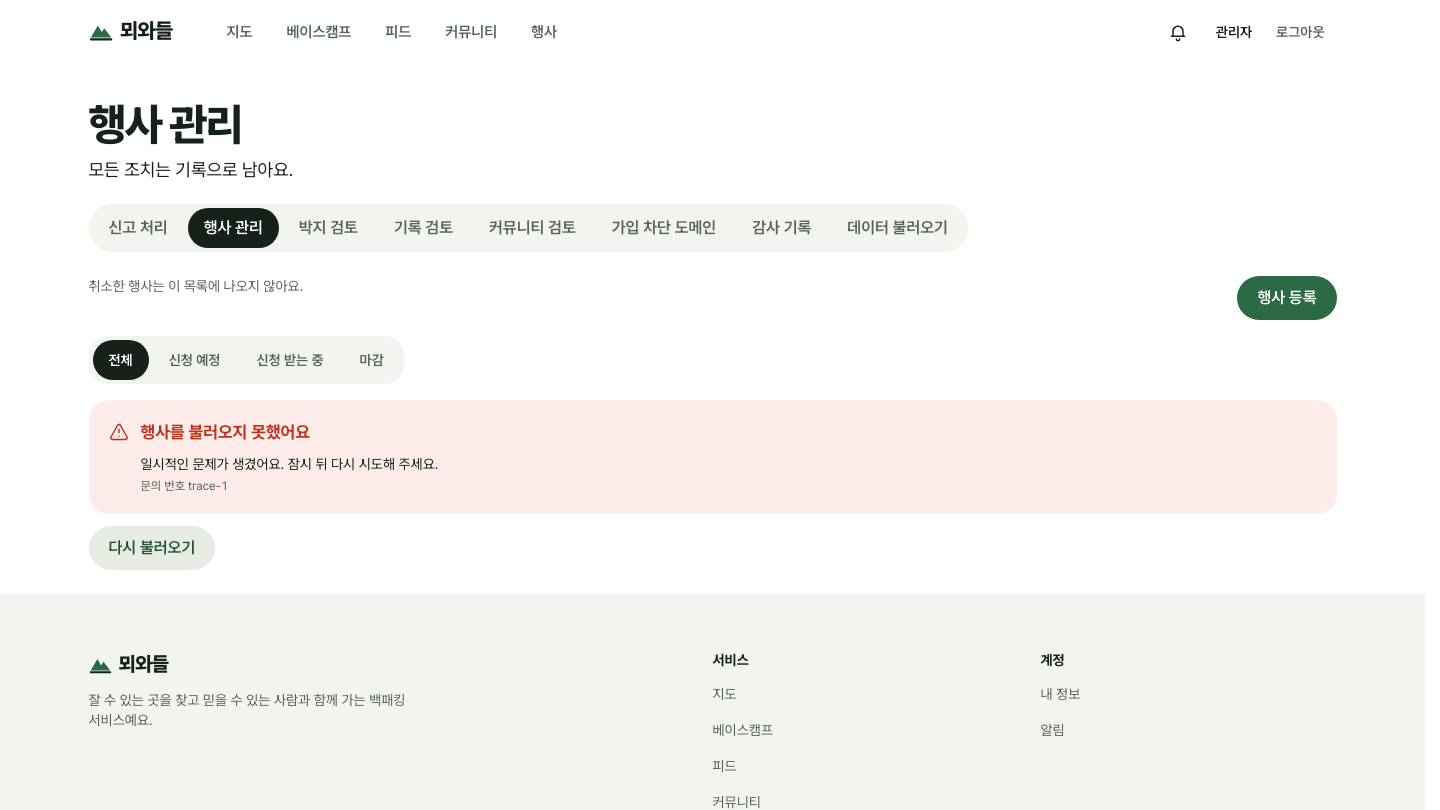
it: 관리자 행사 관리 목록 › 불러오지 못하면 오류와 다시 불러오기를 보여 주고, 누르면 다시 불러온다
The width and height of the screenshot is (1440, 810).
Click the button "다시 불러오기": (152,548) [88, 526, 215, 570]
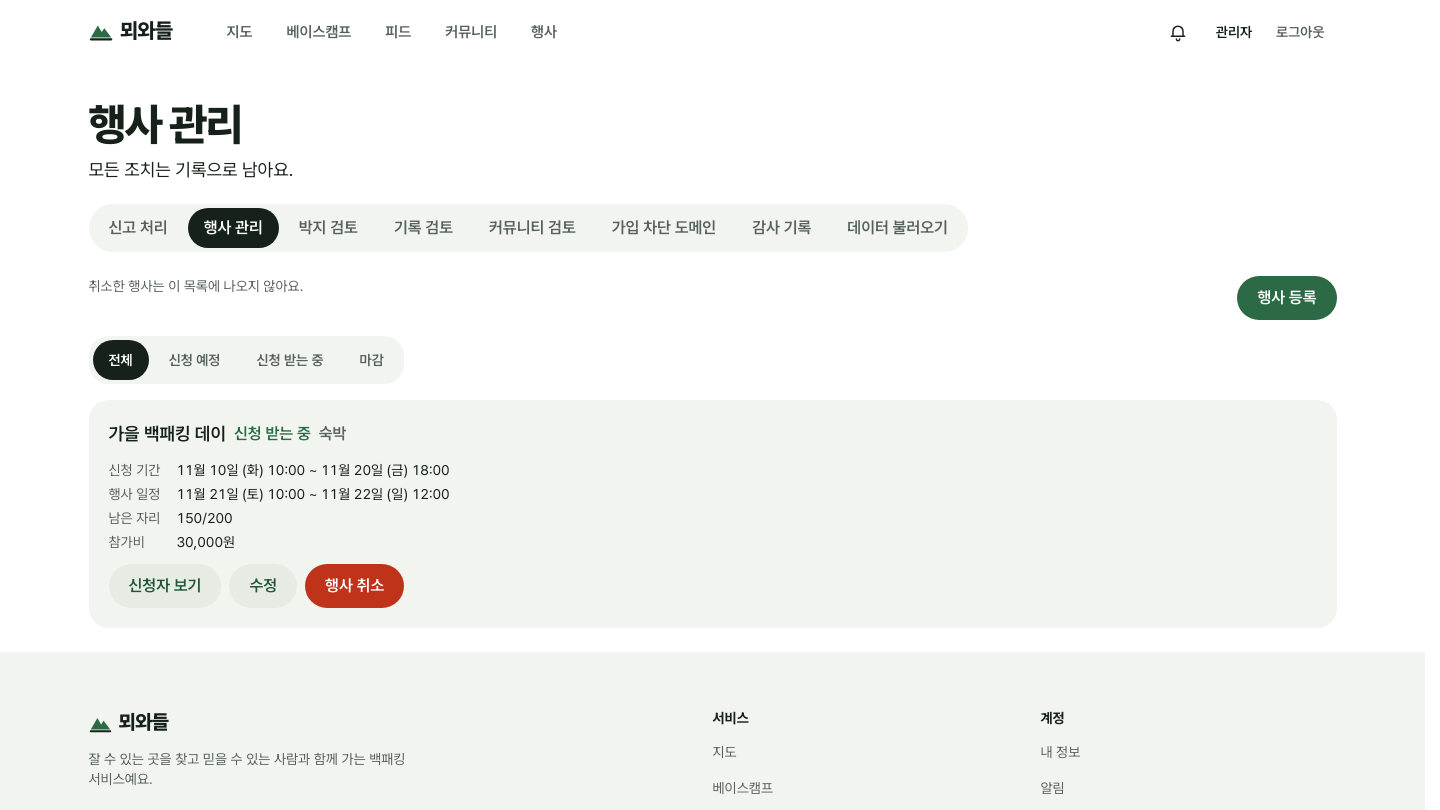
Expected: the text "가을 백패킹 데이" is shown, [108, 420, 226, 448]
Expected: the message "행사를 불러오지 못했어요 일시적인 문제가 생겼어요. 잠시 뒤 다시 시도해 주세요. 문의 번호 trace-1 다시 불러오기" is gone
